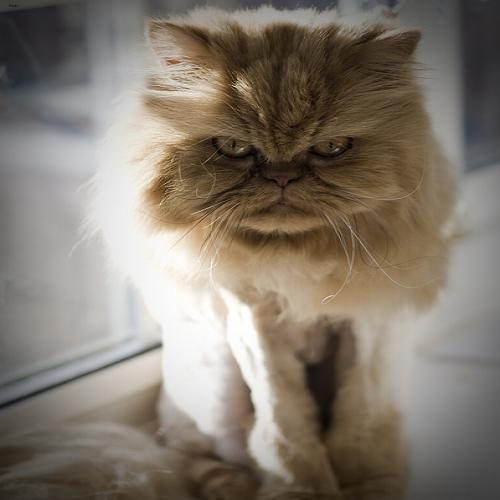persian: (137, 13, 433, 242)
